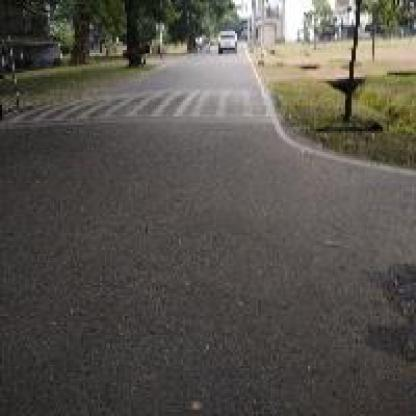Speed Bump: (0, 85, 273, 125)
